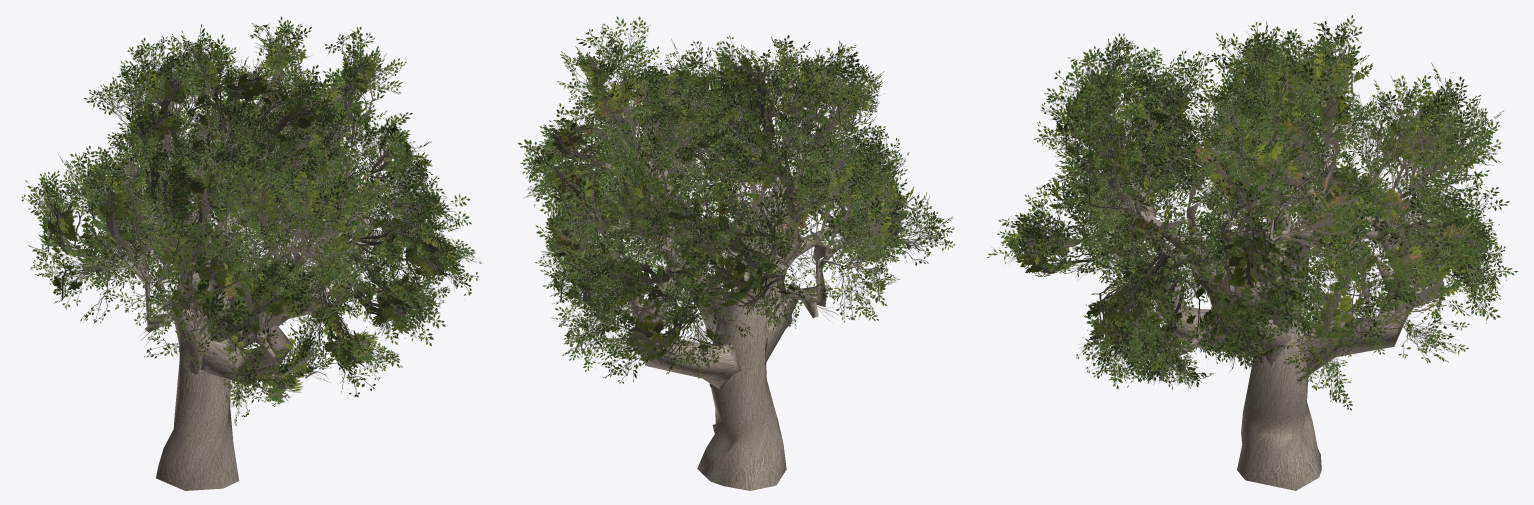
The model's file is olive.glb.
3 views of the same model, side by side, from view 1: azimuth 30°, elevation 25°; view 2: azimuth 150°, elevation 25°; view 3: azimuth 270°, elevation 25° (orthographic). The views are drawn at different scales.
Parts seen in each view (by area): view 1: olive; view 2: olive; view 3: olive.
Boxes of the visible parts, bbox=[...] form: olive: bbox=[21, 16, 481, 490]; olive: bbox=[518, 16, 955, 490]; olive: bbox=[986, 15, 1518, 490].
Size of the model in its own units: 8.39 by 8.33 by 8.69.
Materials: 6 (6 with a texture image).
